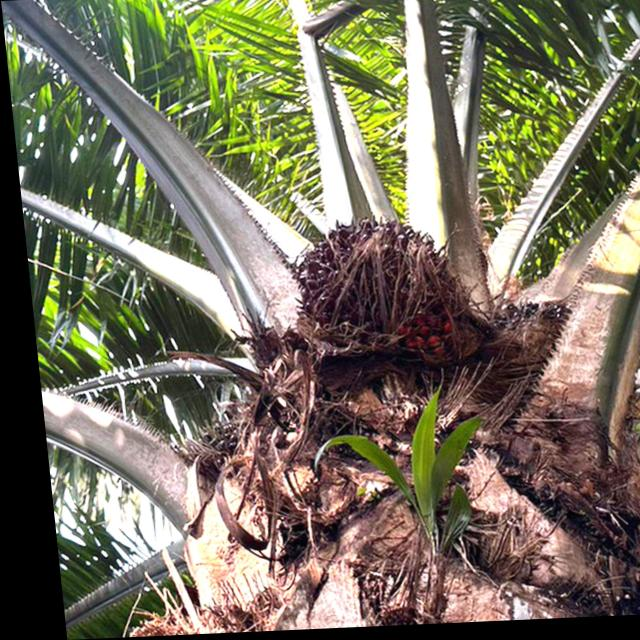almost: (266, 202, 483, 392)
